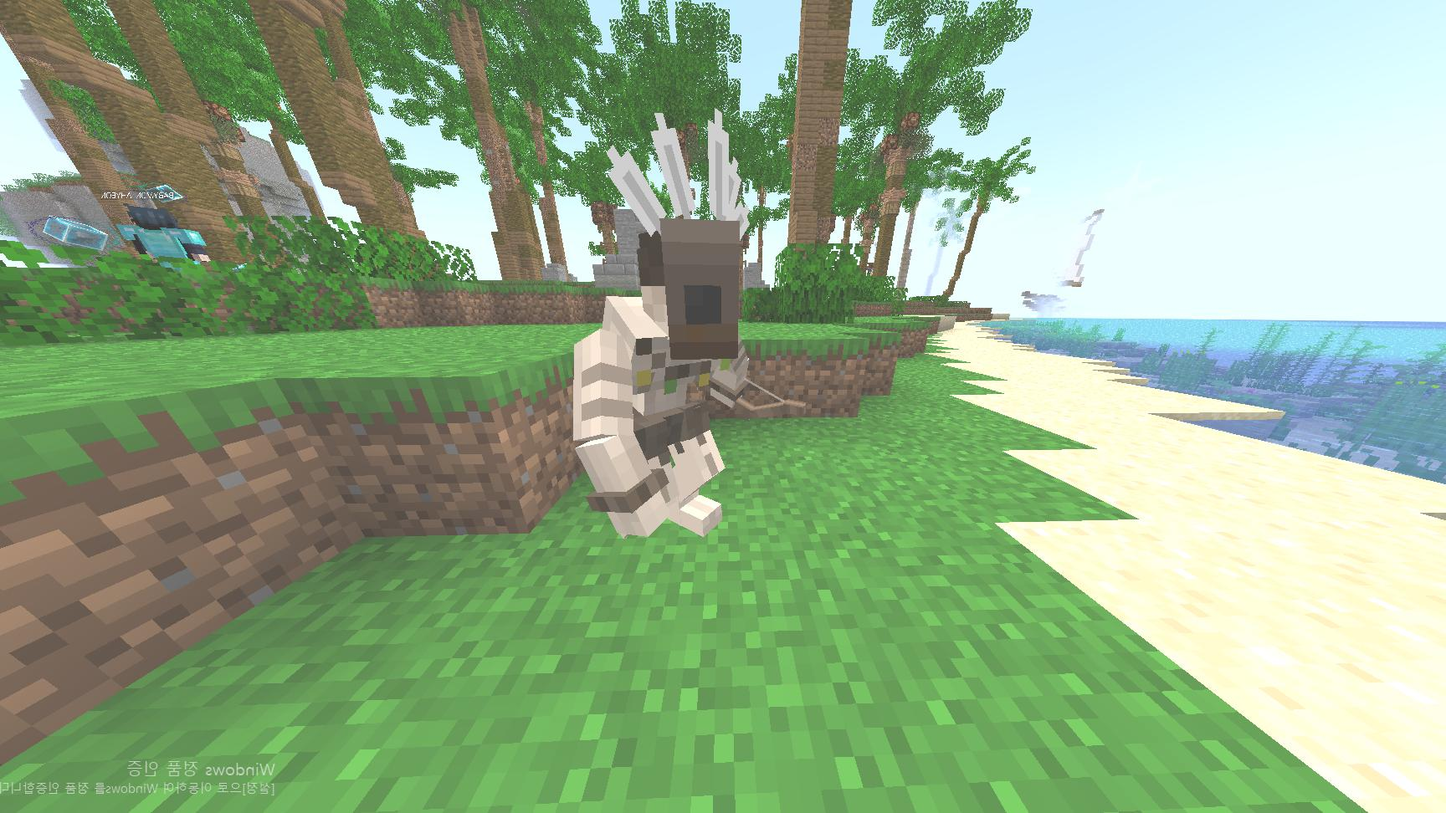bow_indian: (493, 104, 831, 569)
